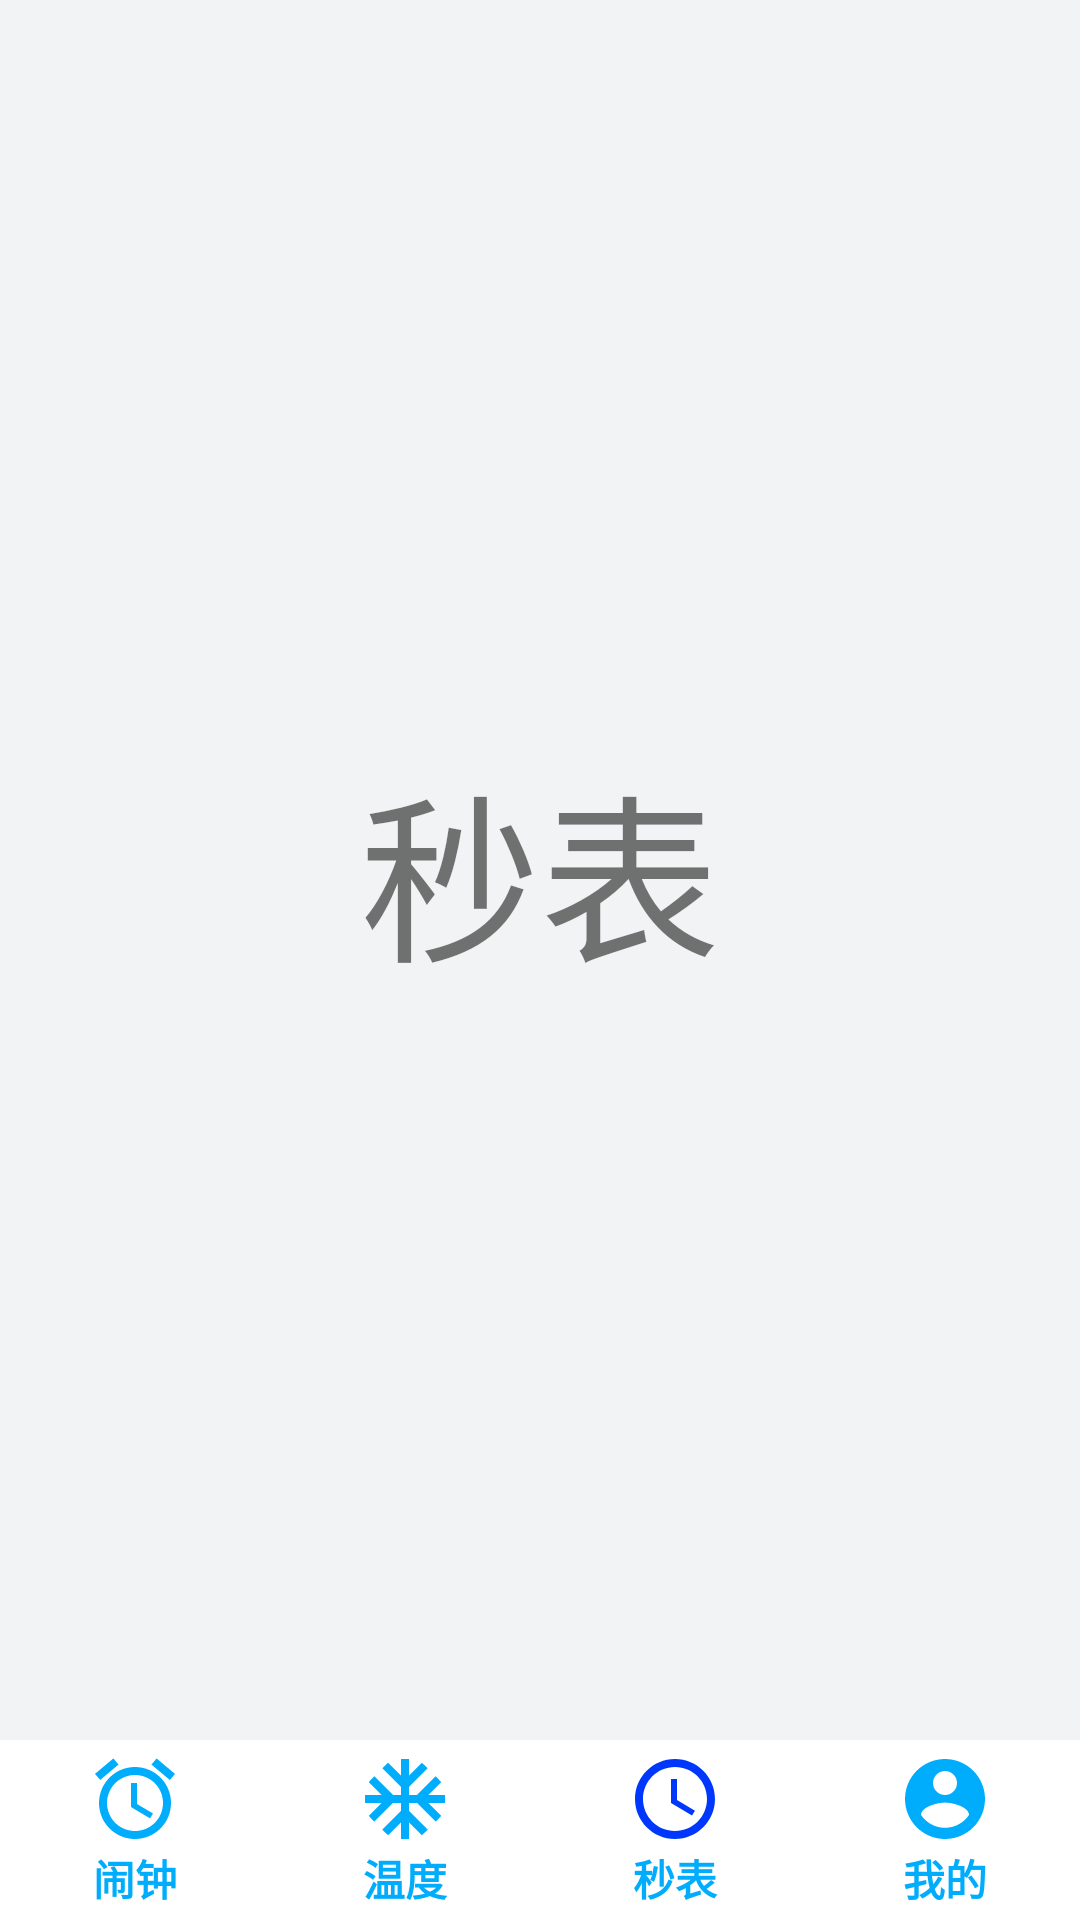

Icons on this 1080×1920 Android screen, each with the point to tap as point (x, y):
access time: point (675, 1799)
